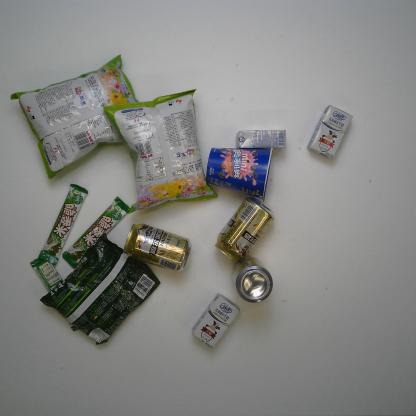Alcohol: (214, 196, 276, 262), (122, 223, 193, 274), (232, 256, 274, 304)
Chocolate: (62, 195, 130, 269), (37, 182, 89, 266), (30, 256, 80, 332)
Dessert: (205, 146, 274, 204)
Instant Noodles: (38, 232, 162, 346)
Milk: (191, 292, 240, 350), (306, 104, 354, 161), (235, 129, 287, 150)
Puffed Food: (10, 53, 141, 180), (103, 88, 219, 215)
